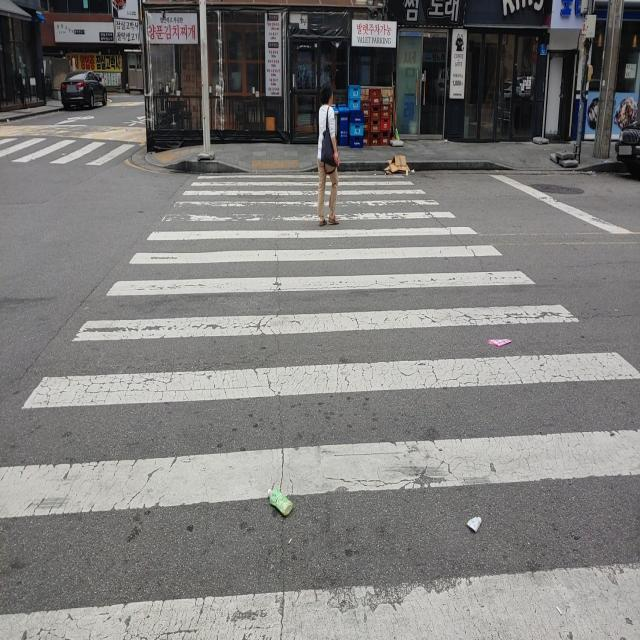횡단보도: (0, 170, 640, 640), (0, 134, 137, 167)
